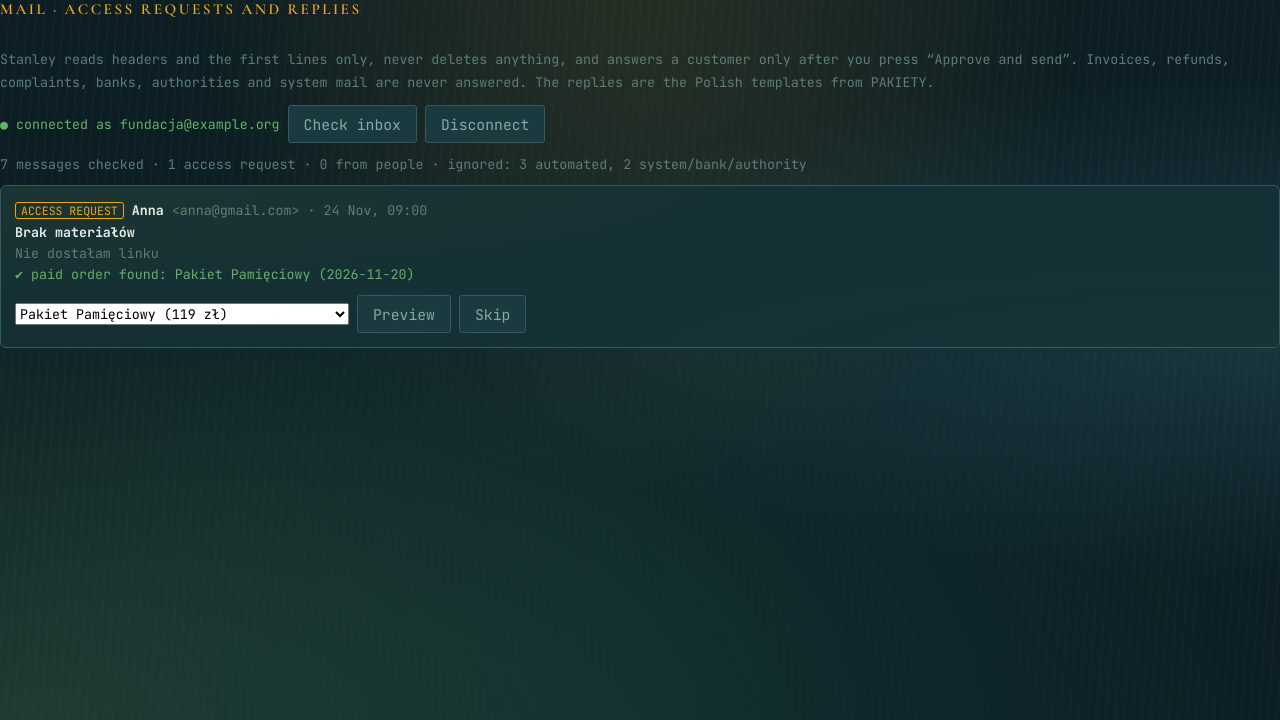
Test: MailPanel: approval flow › a server refusal is shown and the message stays
Click the button "Preview": coordinates (404, 314) x1=357 y1=295 x2=451 y2=333
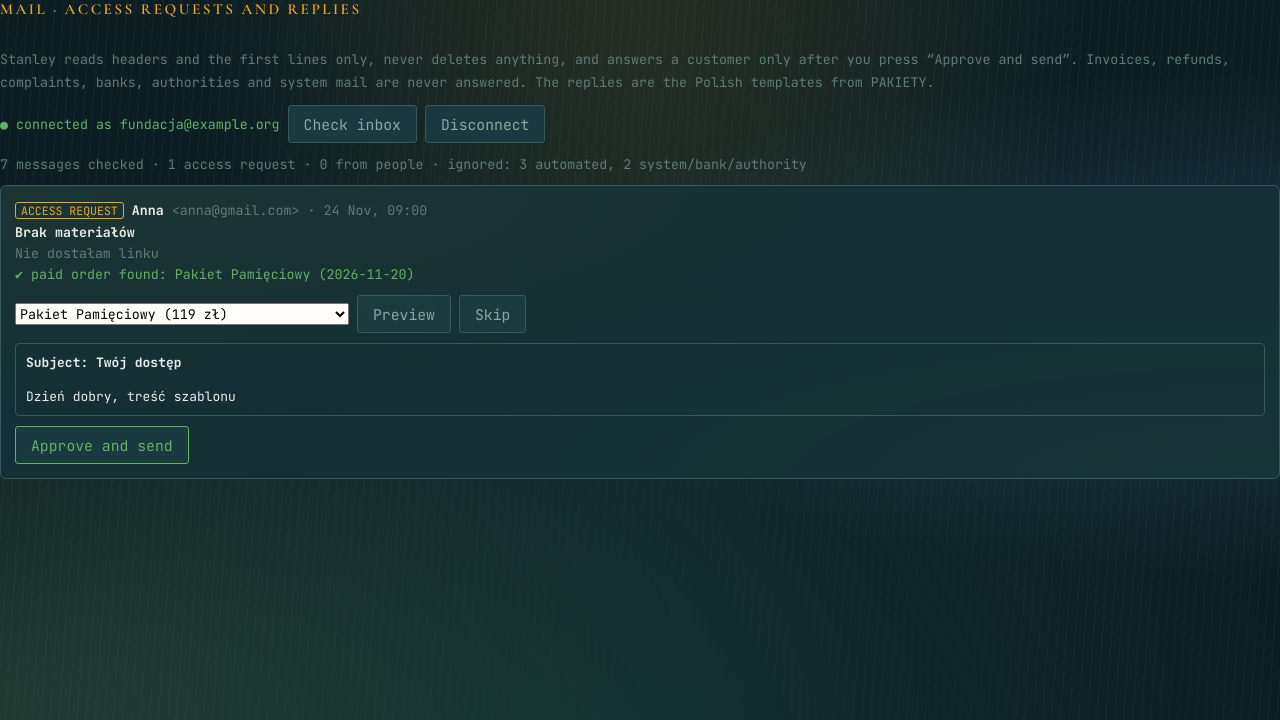
Click the button "Approve and send": coordinates (102, 445) x1=15 y1=426 x2=189 y2=464
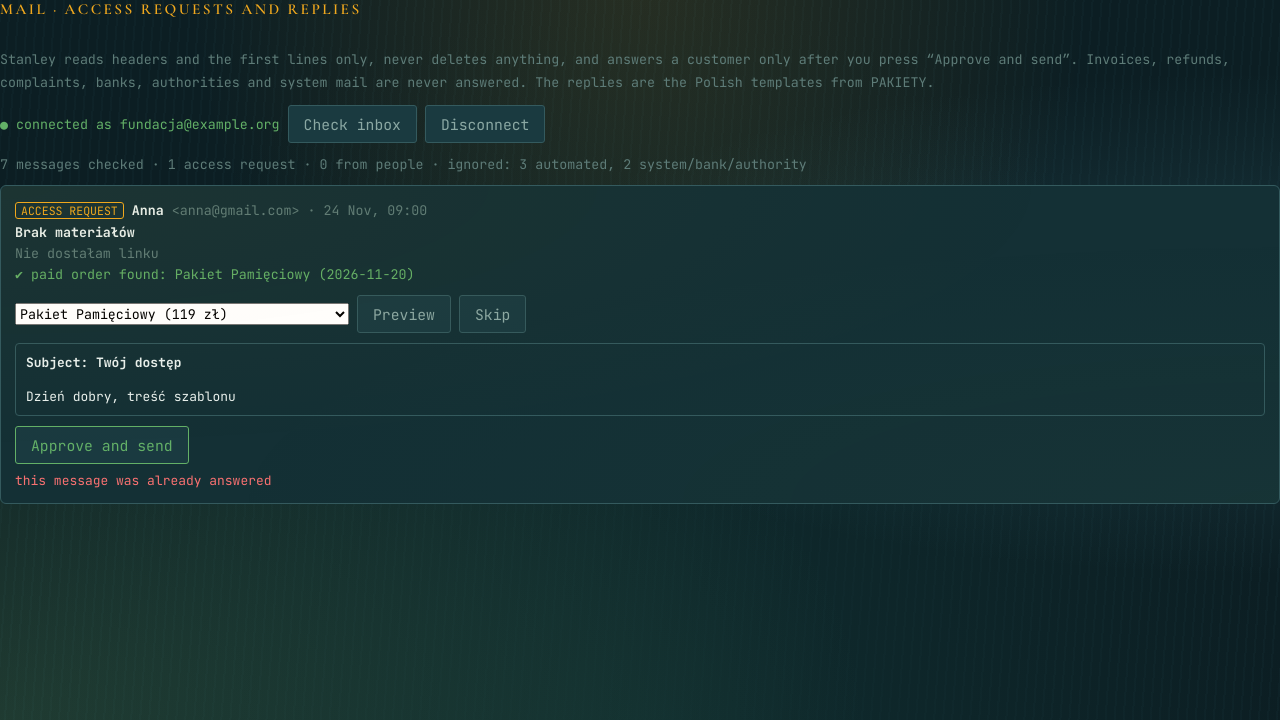
Expected: the element with test id "mail-item" is shown, x1=0 y1=185 x2=1279 y2=504
Now the text "this message was already answered" is shown, box x1=15 y1=472 x2=272 y2=489
